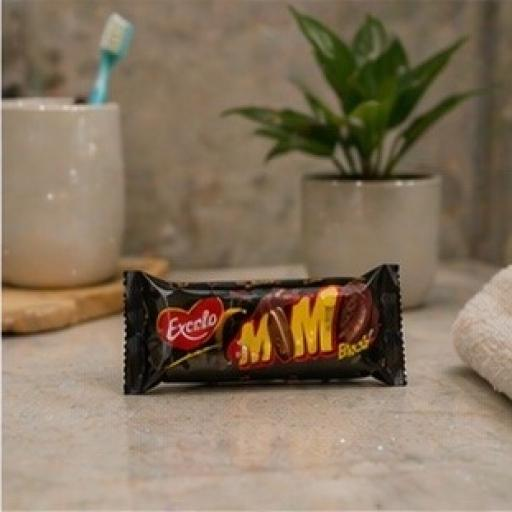MOMO: (106, 258, 444, 402)
